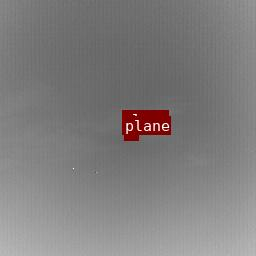plane: (122, 129, 136, 134), (124, 135, 138, 140)
